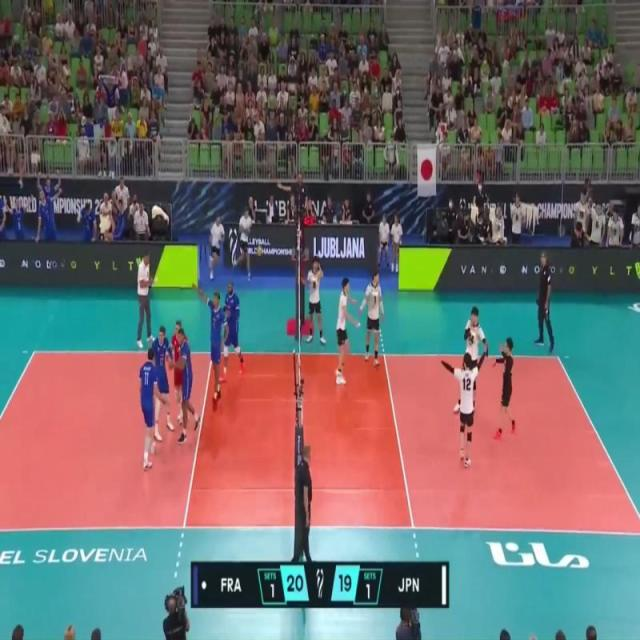volleyball: (256, 243, 264, 258)
